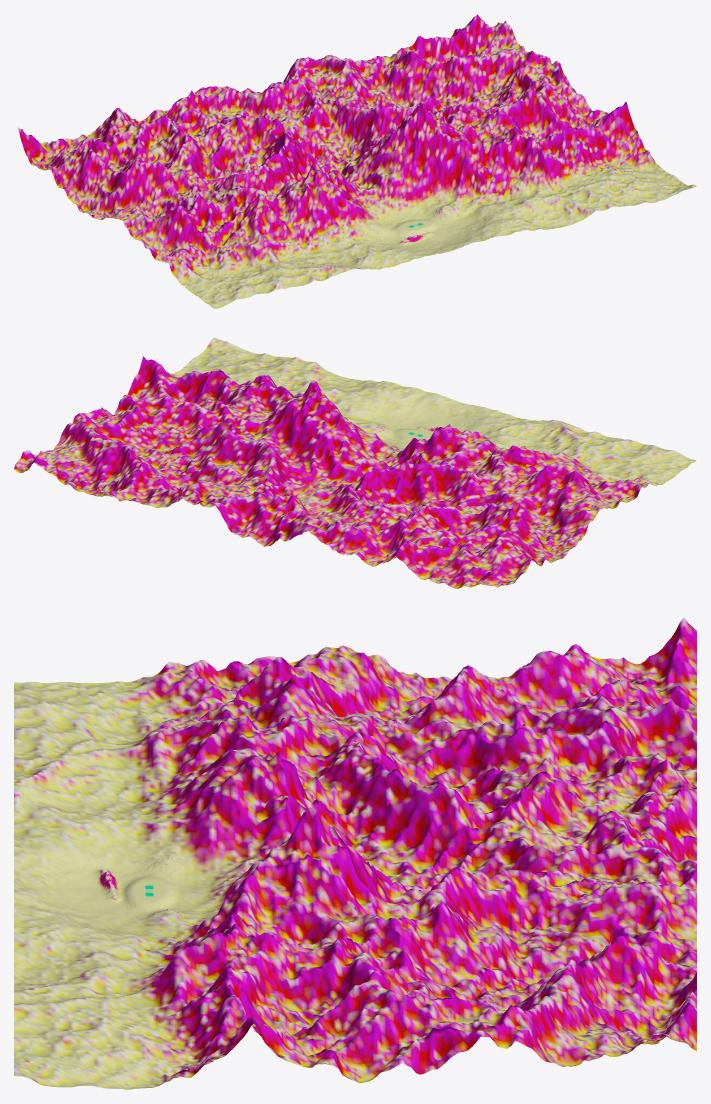
Rendered from terrain.glb.
3 renders of one model, top to bottom at view 1: azimuth 30°, elevation 25°; view 2: azimuth 150°, elevation 25°; view 3: azimuth 270°, elevation 25°, orthographic. The views are drawn at different scales.
Visible parts, largest first — view 1: far, near; view 2: far, near; view 3: far, near.
Part boxes in pixels (bbox=[...]): far: bbox=[18, 14, 696, 308]; near: bbox=[372, 208, 476, 251]; far: bbox=[14, 337, 696, 588]; near: bbox=[374, 402, 480, 442]; far: bbox=[14, 617, 696, 1089]; near: bbox=[52, 853, 181, 921].
Size of the model in its own units: 528 by 87.53 by 379.
